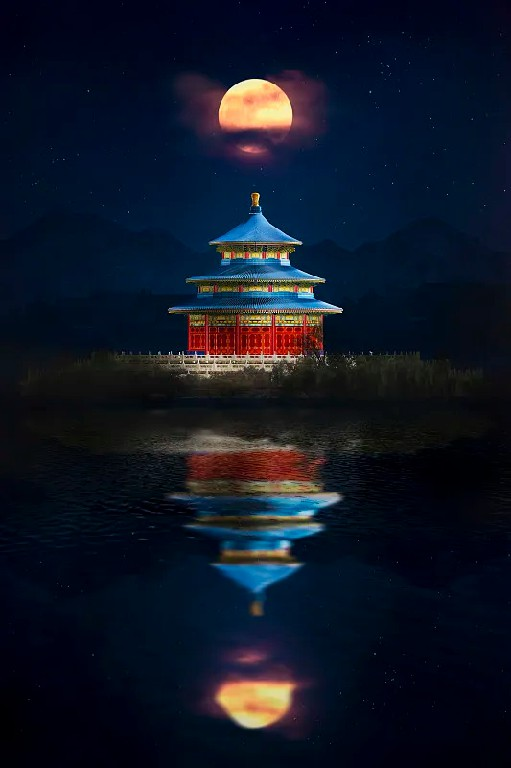Heaven: (163, 190, 345, 358)
